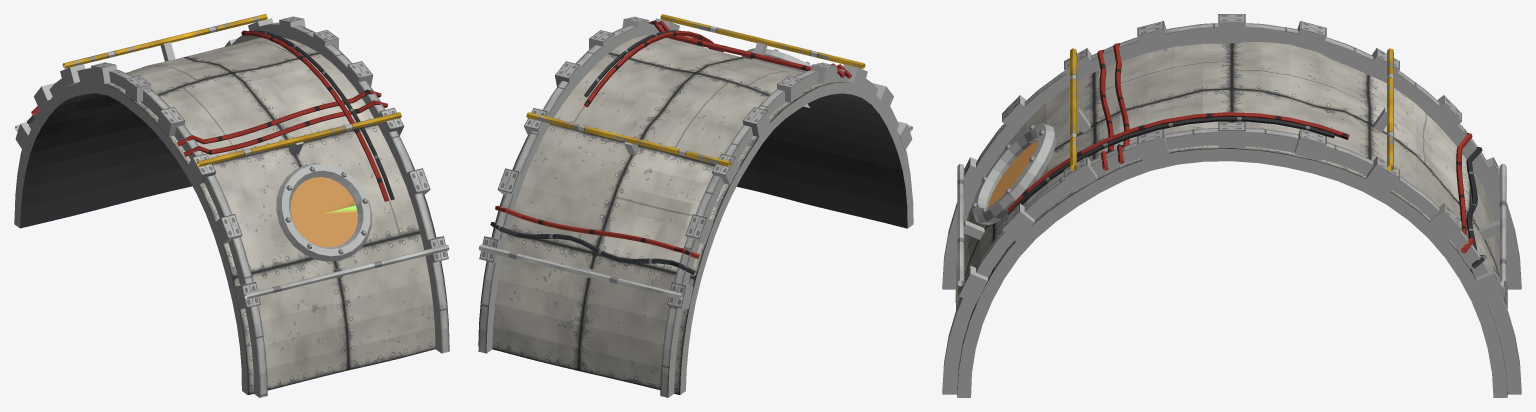
Rendered from hull_porthole_white.fbx.
3 renders of one model, left to right at view 1: azimuth 30°, elevation 25°; view 2: azimuth 150°, elevation 25°; view 3: azimuth 270°, elevation 25°, orthographic. The views are drawn at different scales.
Visible parts, largest first — view 1: hull_porthole_white; view 2: hull_porthole_white; view 3: hull_porthole_white.
Boxes of the visible parts, x1,y1,x2,y2 form: hull_porthole_white: (14, 14, 449, 397); hull_porthole_white: (478, 14, 913, 397); hull_porthole_white: (942, 14, 1521, 397).
Size of the model in its own units: 1.01 by 1.07 by 2.1.
1 material, 1 textured.
